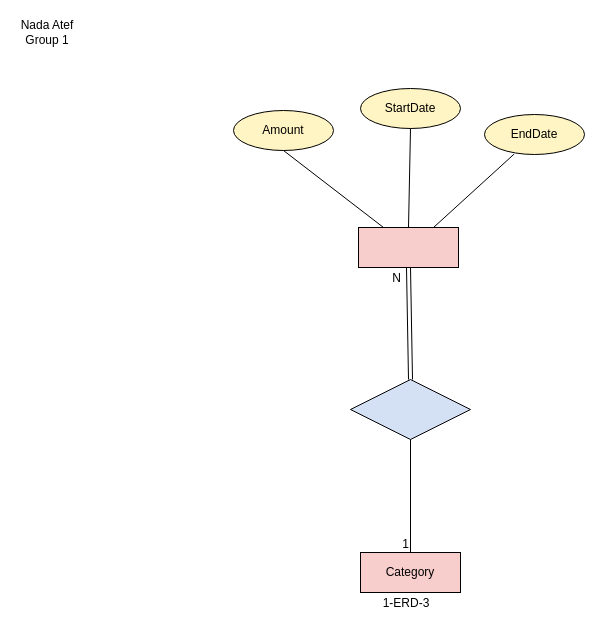
The diagram is 602 pixels wide and 635 high, and some of its shapes have lost their labels. The shapes that lost their labels are listed below. From the top down, each one's centre as x and y in pixels, then its label:
At point 408,247: "Discount".
At point 410,409: "Belongs_To".
